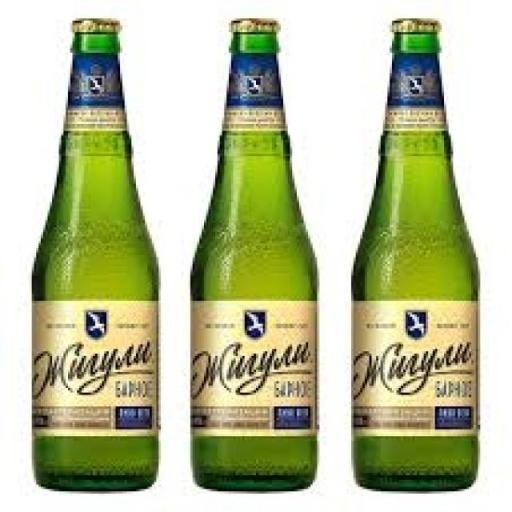glass: (24, 10, 166, 501), (352, 22, 477, 492), (192, 22, 316, 492)
